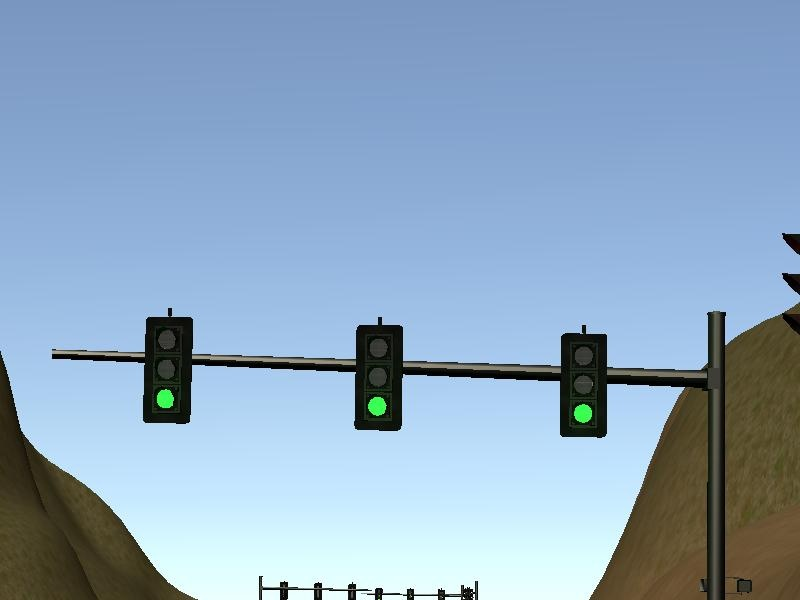green: (143, 316, 192, 424), (356, 323, 403, 430), (562, 334, 607, 437)
